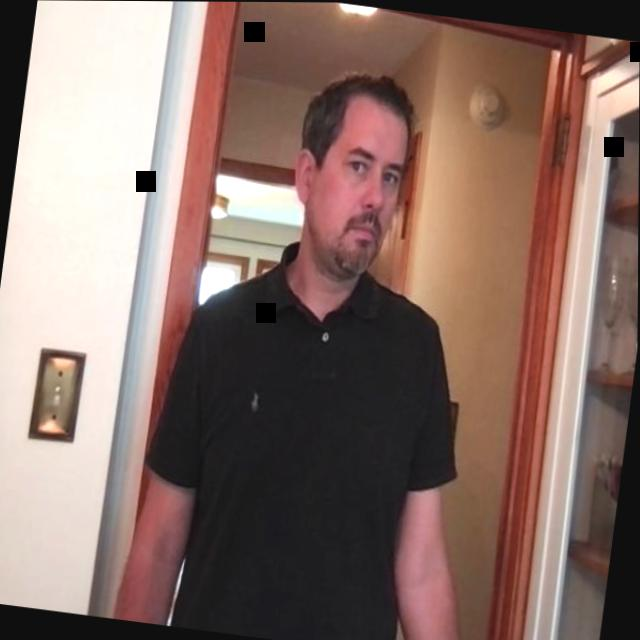NO-Mask: (279, 67, 419, 284)
